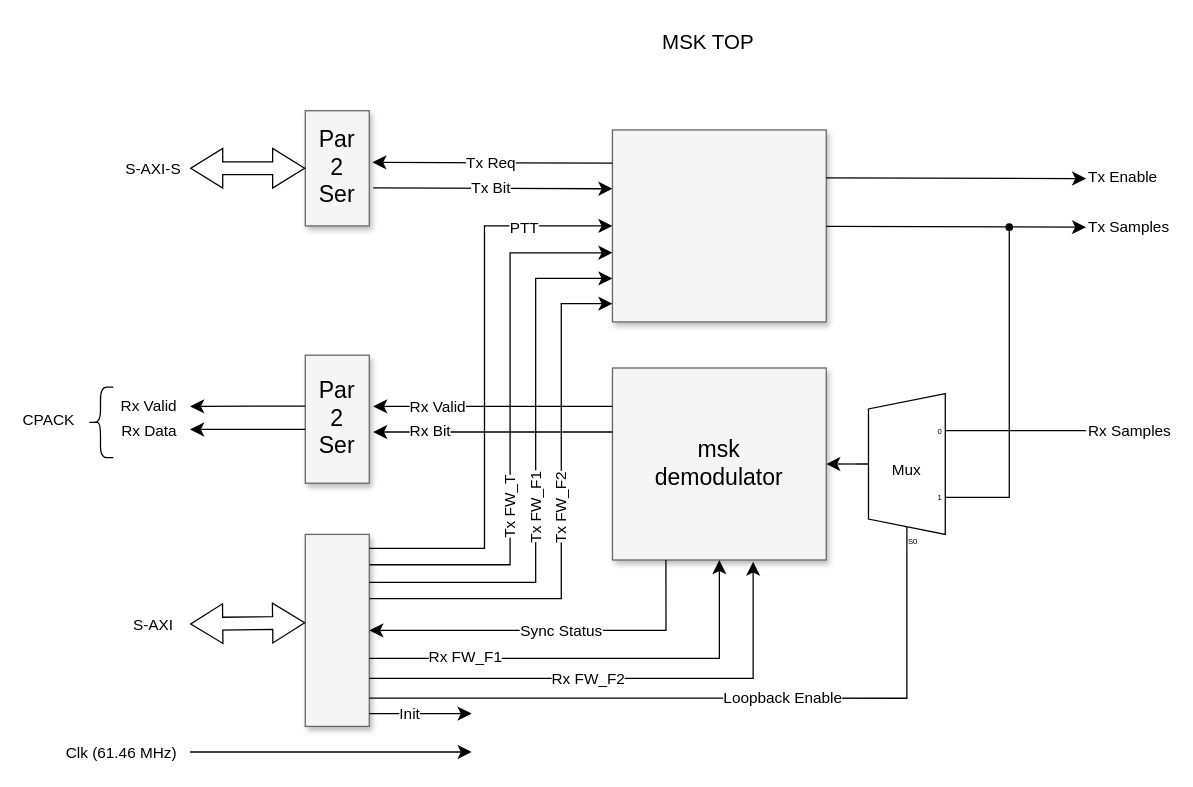
The diagram is 1193 pixels wide and 787 high, and some of its shapes have lost their labels. The centre of each missing label's shape, as x and y in pixels:
Ctrl Stat Regs: [338,631]
msk modulator: [720,227]
